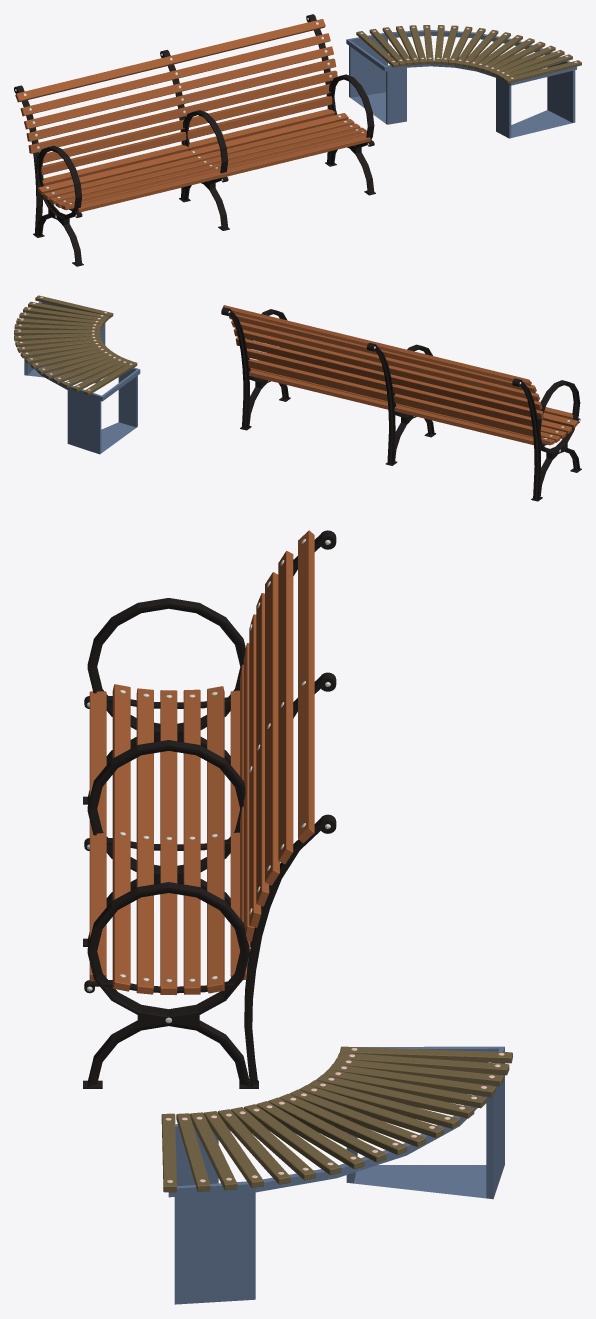
File: benches.fbx
3 renders of one model, top to bottom at view 1: azimuth 30°, elevation 25°; view 2: azimuth 150°, elevation 25°; view 3: azimuth 270°, elevation 25°, orthographic. The views are drawn at different scales.
Visible parts, largest first — view 1: bench_1, bench_2, bench_21, bench; view 2: bench_1, bench_21, bench, bench_2; view 3: bench_1, bench_21, bench, bench_2.
Boxes of the visible parts, x1,y1,x2,y2 form: bench_1: (15,19,370,212); bench_2: (346,30,576,138); bench_21: (356,25,581,83); bench: (14,14,375,266); bench_1: (222,305,578,445); bench_21: (14,295,137,395); bench: (221,307,581,501); bench_2: (20,301,140,454); bench_1: (89,530,314,995); bench_21: (161,1046,512,1192); bench: (83,530,336,1088); bench_2: (168,1046,504,1304).
Size of the model in its own units: 3.62 by 0.88 by 1.28.
